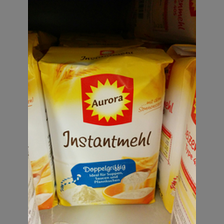flour: (38, 45, 172, 206)
